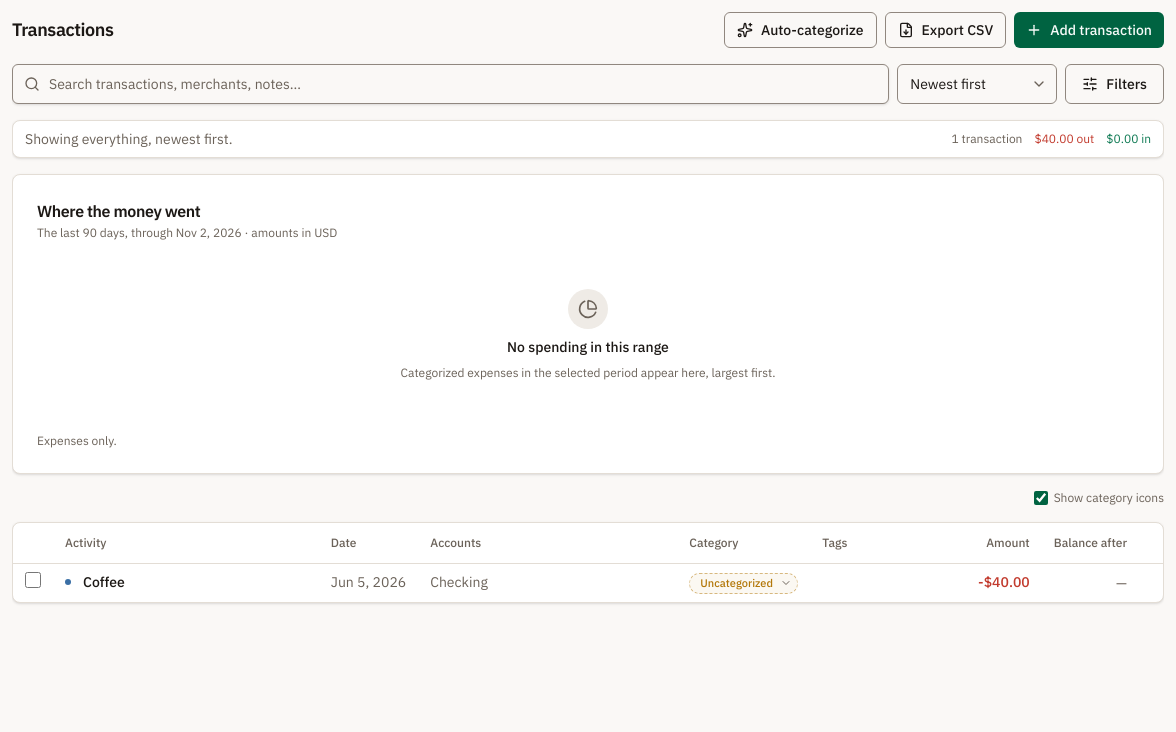
Test: TransactionsView › auto-categorizes from merchant memory and reports the count (5n4.1)
The width and height of the screenshot is (1176, 732).
Expected: the text "Coffee" is shown, [83,572,125,592]
Click the button "Auto-categorize": (800,30) [724,12,876,48]
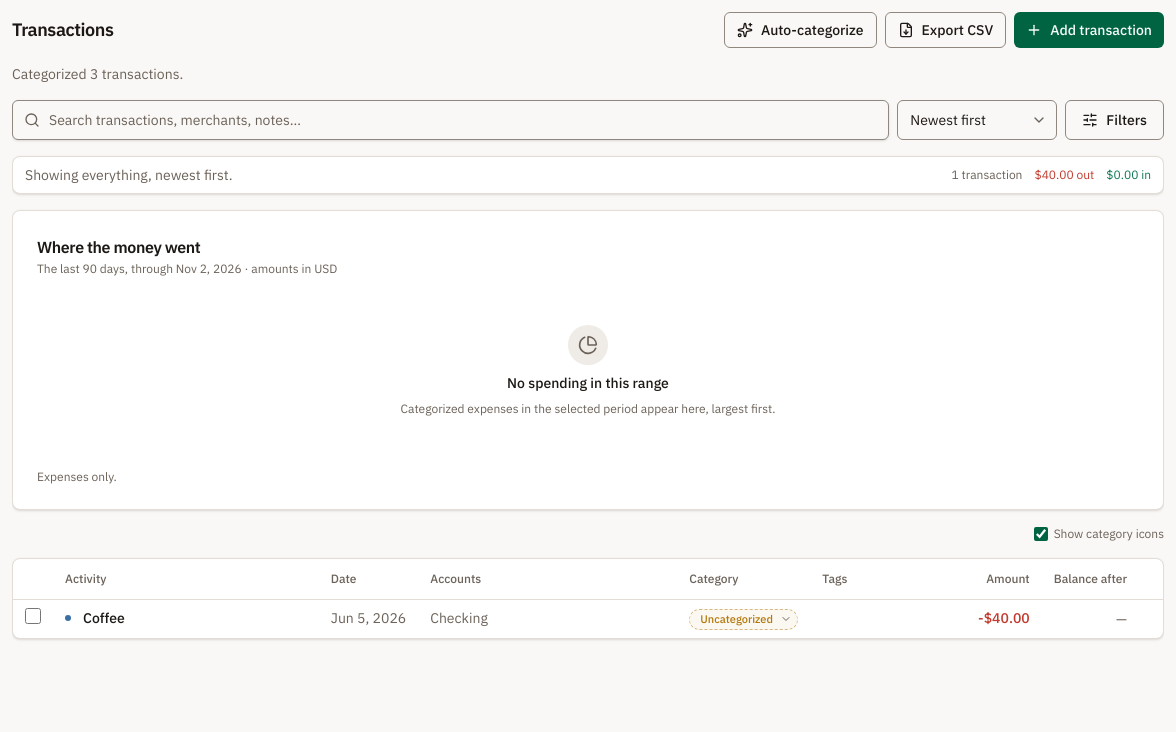
Expected: the text "Categorized 3 transactions." is shown, [12,65,183,83]
